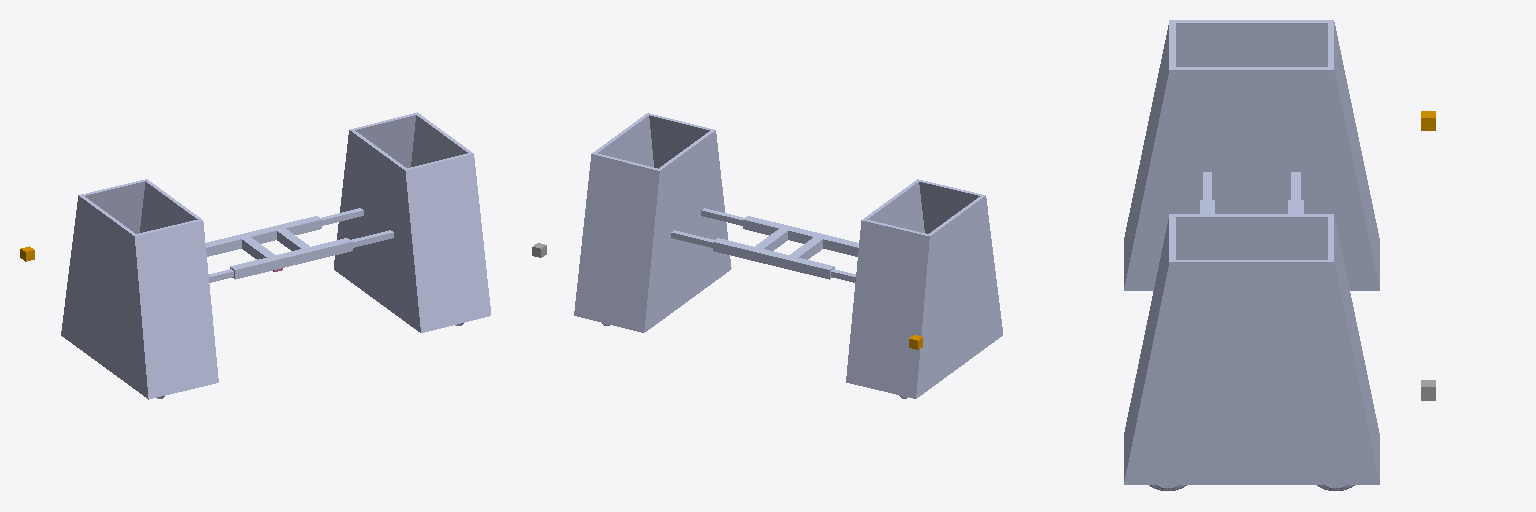
URDF robot description (Aribot):
<?xml version="1.0" encoding="utf-8"?>
<!-- This URDF was automatically created by SolidWorks to URDF Exporter! Originally created by [author] ([email redacted]) 
     Commit Version: 1.6.0-4-g7f85cfe  Build Version: 1.6.7995.38578
     For more information, please see http://wiki.ros.org/sw_urdf_exporter -->
<robot
  name="Aribot">


  <link name="base_link"/>

  <joint name="base_link_to_frame" type="fixed">
    <origin
      xyz="0 0 0.5"
      rpy="0 0 0" />
    <parent link="base_link"/>
    <child link="Main_Frame"/>
  </joint>

<!-- %%%%%%%%%%%%%%%%%%%%%%%%%%%%%%%%%%%%%%%%%%%%%%%%%%%%%%%%%%%%%%%%%%%%%%%%%%%%%%%%%%%%%%%%%%%%%%%%%%%%%%%%%%%%%%%%%%%%%%%%%%%%%%%%%%%%%%% -->

  <link
    name="Main_Frame">
    <inertial>
      <origin
        xyz="0.0717709952978995 0.119999999999937 -0.0228889617562367"
        rpy="0 0 0" />
      <mass
        value="77.7230117454762" />
      <inertia
        ixx="8.64031463590464"
        ixy="1.07381683961405E-08"
        ixz="2.28474308907644E-15"
        iyy="5.82929348084091"
        iyz="6.35721833589503E-15"
        izz="6.52219663467182" />
    </inertial>
    <visual>
      <origin
        xyz="0 0 0"
        rpy="0 0 0" />
      <geometry>
        <mesh
          filename="package://aribot/meshes/Main_Frame.STL" />
      </geometry>
      <material
        name="">
        <color
          rgba="0.792156862745098 0.819607843137255 0.933333333333333 1" />
      </material>
    </visual>
    <collision>
      <origin
        xyz="0 0 0"
        rpy="0 0 0" />
      <geometry>
        <mesh
          filename="package://aribot/meshes/Main_Frame.STL" />
      </geometry>
    </collision>
  </link>

<!-- %%%%%%%%%%%%%%%%%%%%%%%%%%%%%%%%%%%%%%%%%%%%%%%%%%%%%%%%%%%%%%%%%%%%%%%%%%%%%%%%%%%%%%%%%%%%%%%%%%%%%%%%%%%%%%%%%%%%%%%%%%%%%%%%%%%%%%% -->

  <link
    name="flw">
    <inertial>
      <origin
        xyz="0 0 0"
        rpy="0 0 0" />
      <mass
        value="2.52907768072339" />
      <inertia
        ixx="0.008507457946081"
        ixy="-2.00936705349142E-08"
        ixz="-2.9288649425361E-06"
        iyy="0.00802972984266959"
        iyz="-8.91391530142956E-10"
        izz="0.00802975031494158" />
    </inertial>
    <visual>
      <origin
        xyz="0.399510532190208 -0.395453747716097 +0.366570227634273"
        rpy="0 0 0" />
      <geometry>
        <mesh
          filename="package://aribot/meshes/FLW.STL" 
          scale="0.5 1 1"/>
      </geometry>
      <material
        name="">
        <color
          rgba="0.792156862745098 0.819607843137255 0.933333333333333 1" />
      </material>
    </visual>
    <collision>
      <origin
        xyz="0.399510532190208 -0.395453747716097 +0.366570227634273"
        rpy="0 0 0" />
      <geometry>
        <mesh
          filename="package://aribot/meshes/FLW.STL" 
          scale="0.5 1 1"/>
      </geometry>
    </collision>
  </link>
  
  <joint
    name="mf_flw"
    type="continuous">
    <origin
      xyz="-0.779021064380416 0.395453747716097 -0.366570227634273"
      rpy="0 0 0" />
    <parent
      link="Main_Frame" />
    <child
      link="flw" />
    <axis
      xyz="1 0 0" />
  </joint>

<!-- %%%%%%%%%%%%%%%%%%%%%%%%%%%%%%%%%%%%%%%%%%%%%%%%%%%%%%%%%%%%%%%%%%%%%%%%%%%%%%%%%%%%%%%%%%%%%%%%%%%%%%%%%%%%%%%%%%%%%%%%%%%%%%%%%%%%%%% -->

  <link
    name="frw">
    <inertial>
      <origin
        xyz="0.461281527406692 0.395453775612817 -0.366570215946312"
        rpy="0 0 0" />
      <mass
        value="2.52907768394816" />
      <inertia
        ixx="0.00850745791271025"
        ixy="2.64738538377897E-08"
        ixz="2.93153879366215E-06"
        iyy="0.00802973012348741"
        iyz="-1.11149048416541E-09"
        izz="0.00802975010088918" />
    </inertial>
    <visual>
      <origin
        xyz="-0.461281527406692 -0.395453775612817 0.366570215946312"
        rpy="0 0 0" />
      <geometry>
        <mesh
          filename="package://aribot/meshes/FRW.STL" 
          scale="0.5 1 1"/>
      </geometry>
      <material
        name="">
        <color
          rgba="0.792156862745098 0.819607843137255 0.933333333333333 1" />
      </material>
    </visual>
    <collision>
      <origin
        xyz="-0.461281527406692 -0.395453775612817 0.366570215946312"
        rpy="0 0 0" />
      <geometry>
        <mesh
          filename="package://aribot/meshes/FRW.STL" 
          scale="0.5 1 1"/>
      </geometry>
    </collision>
  </link>

  <joint
    name="mf_frw"
    type="continuous">
    <origin
      xyz="0.922563054813384 0.395453775612817 -0.366570215946312"
      rpy="0 0 0" />
    <parent
      link="Main_Frame" />
    <child
      link="frw" />
    <axis
      xyz="1 0 0" />
  </joint>
  
<!-- %%%%%%%%%%%%%%%%%%%%%%%%%%%%%%%%%%%%%%%%%%%%%%%%%%%%%%%%%%%%%%%%%%%%%%%%%%%%%%%%%%%%%%%%%%%%%%%%%%%%%%%%%%%%%%%%%%%%%%%%%%%%%%%%%%%%%%% -->

  <link
    name="blw">
    <inertial>
      <origin
        xyz="-0.3895105321288915 -0.155453762879471 -0.366570221746071"
        rpy="0 0 0" />
      <mass
        value="2.52907768381589" />
      <inertia
        ixx="0.00850745792928744"
        ixy="2.35622819098446E-08"
        ixz="-2.93021215744386E-06"
        iyy="0.00802972999331466"
        iyz="1.01701862963767E-09"
        izz="0.00802975021315278" />
    </inertial>
    <visual>
      <origin
        xyz="0.3995105321288915 0.155453762879471 0.366570221746071"
        rpy="0 0 0" />
      <geometry>
        <mesh
          filename="package://aribot/meshes/BLW.STL" 
          scale="0.5 1 1"/>
      </geometry>
      <material
        name="">
        <color
          rgba="0.792156862745098 0.819607843137255 0.933333333333333 1" />
      </material>
    </visual>
    <collision>
      <origin
        xyz="0.3995105321288915 0.155453762879471 0.366570221746071"
        rpy="0 0 0" />
      <geometry>
        <mesh
          filename="package://aribot/meshes/BLW.STL" 
          scale="0.5 1 1"/>
      </geometry>
    </collision>
  </link>

  <joint
    name="mf_blw"
    type="continuous">
    <origin
      xyz="-0.779021064257783 -0.155453762879471 -0.366570221746071"
      rpy="0 0 0" />
    <parent
      link="Main_Frame" />
    <child
      link="blw" />
    <axis
      xyz="1 0 0" />
  </joint>

<!-- %%%%%%%%%%%%%%%%%%%%%%%%%%%%%%%%%%%%%%%%%%%%%%%%%%%%%%%%%%%%%%%%%%%%%%%%%%%%%%%%%%%%%%%%%%%%%%%%%%%%%%%%%%%%%%%%%%%%%%%%%%%%%%%%%%%%%%% -->

  <link
    name="brw">
    <inertial>
      <origin
        xyz="0.4612815272460325 -0.155453872427743 -0.366570135261007"
        rpy="0 0 0" />
      <mass
        value="2.52907767738676" />
      <inertia
        ixx="0.00850745768199721"
        ixy="-4.8606221156604E-08"
        ixz="2.94999144164269E-06"
        iyy="0.008029731566625"
        iyz="1.24369449691537E-09"
        izz="0.00802974881976017" />
    </inertial>
    <visual>
      <origin
        xyz="-0.4612815272460325 0.155453872427743 0.366570135261007"
        rpy="0 0 0" />
      <geometry>
        <mesh
          filename="package://aribot/meshes/BRW.STL" 
          scale="0.5 1 1"/>
      </geometry>
      <material
        name="">
        <color
          rgba="0.792156862745098 0.819607843137255 0.933333333333333 1" />
      </material>
    </visual>
    <collision>
      <origin
        xyz="-0.4612815272460325 0.155453872427743 0.366570135261007"
        rpy="0 0 0" />
      <geometry>
        <mesh
          filename="package://aribot/meshes/BRW.STL" 
          scale="0.5 1 1"/>
      </geometry>
    </collision>
  </link>

  <joint
    name="mf_brw"
    type="continuous">
    <origin
      xyz="0.922563054492065 -0.155453872427743 -0.366570135261007"
      rpy="0 0 0" />
    <parent
      link="Main_Frame" />
    <child
      link="brw" />
    <axis
      xyz="1 0 0" />
  </joint>


<!-- %%%%%%%%%%%%%%%%%%%%%%%%%%%%%%%%%%%%%%%%%%%%%%%%%%%%%%%%%%%%%%%%%%%%%%%%%%%%%%%%%%%%%%%%%%%%%%%%%%%%%%%%%%%%%%%%%%%%%%%%%%%%%%%%%%%%%%% -->


<!-- Camera -->
  <link name="camera_link">

    <visual>
      <origin xyz="0 0 0" rpy="0 0 0"/>
      <geometry>
    <box size="0.05 0.05 0.05"/>
      </geometry>
      <material name="red"/>
    </visual>

    <inertial>
      <mass value="1e-5" />
      <origin xyz="0 0 0" rpy="0 0 0"/>
      <inertia ixx="1e-6" ixy="0" ixz="0" iyy="1e-6" iyz="0" izz="1e-6" />
    </inertial>
  </link>

  <joint name="camera_joint" type="fixed">
    <axis xyz="0 1 0" />
    <origin xyz="0 0 0" rpy="0 1.57079632679 0"/>
    <parent link="Main_Frame"/>
    <child link="camera_link"/>
  </joint>


<!-- %%%%%%%%%%%%%%%%%%%%%%%%%%%%%%%%%%%%%%%%%%%%%%%%%%%%%%%%%%%%%%%%%%%%%%%%%%%%%%%%%%%%%%%%%%%%%%%%%%%%%%%%%%%%%%%%%%%%%%%%%%%%%%%%%%%%%%% -->

<!-- Hokuyo Laser -->
  <link name="hokuyo_link_1">
    <collision>
      <origin xyz="0 0 0" rpy="0 0 0"/>
      <geometry>
    <box size="0.1 0.1 0.1"/>
      </geometry>
    </collision>

    <visual>
      <origin xyz="0 0 0" rpy="0 0 0"/>
      <geometry>
        <box size="0.05 0.05 0.05"/>
      </geometry>
    </visual>

    <inertial>
      <mass value="1e-5" />
      <origin xyz="0 0 0" rpy="0 0 0"/>
      <inertia ixx="1e-6" ixy="0" ixz="0" iyy="1e-6" iyz="0" izz="1e-6" />
    </inertial>
  </link>

  <joint name="hokuyo_joint_1" type="fixed">
    <axis xyz="0 1 0" />
    <origin xyz="1.12 0.7 0" rpy="0 1.570796 1.5707963267948966"/>
    <parent link="Main_Frame"/>
    <child link="hokuyo_link_1"/>
  </joint>


<!-- Hokuyo Laser -->
  <link name="hokuyo_link_2">
    <collision>
      <origin xyz="0 0 0" rpy="0 0 0"/>
      <geometry>
    <box size="0.1 0.1 0.1"/>
      </geometry>
    </collision>

    <visual>
      <origin xyz="0 0 0" rpy="0 0 0"/>
      <geometry>
        <box size="0.05 0.05 0.05"/>
      </geometry>
    </visual>

    <inertial>
      <mass value="1e-5" />
      <origin xyz="0 0 0" rpy="0 0 0"/>
      <inertia ixx="1e-6" ixy="0" ixz="0" iyy="1e-6" iyz="0" izz="1e-6" />
    </inertial>
  </link>

  <joint name="hokuyo_joint_2" type="fixed">
    <axis xyz="0 1 0" />
    <origin xyz="-0.97 0.7 0" rpy="0 1.570796 1.5707963267948966"/>
    <parent link="Main_Frame"/>
    <child link="hokuyo_link_2"/>
  </joint>
<!-- %%%%%%%%%%%%%%%%%%%%%%%%%%%%%%%%%%%%%%%%%%%%%%%%%%%%%%%%%%%%%%%%%%%%%%%%%%%%%%%%%%%%%%%%%%%%%%%%%%%%%%%%%%%%%%%%%%%%%%%%%%%%%%%%%%%%%%% -->



  <!-- #########################  Transmission element  ###########################-->



  <transmission name="tran1_1">
        <type>transmission_interface/SimpleTransmission</type>
        <joint name="mf_frw">
          <hardwareInterface>hardware_interface/VelocityJointInterface</hardwareInterface>
        </joint>
        <actuator name="motor1">
          <hardwareInterface>hardware_interface/VelocityJointInterface</hardwareInterface>
          <mechanicalReduction>1</mechanicalReduction>
        </actuator>
      </transmission>

  <transmission name="tran1_2">
        <type>transmission_interface/SimpleTransmission</type>
        <joint name="mf_flw">
          <hardwareInterface>hardware_interface/VelocityJointInterface</hardwareInterface>
        </joint>
        <actuator name="motor2">
          <hardwareInterface>hardware_interface/VelocityJointInterface</hardwareInterface>
          <mechanicalReduction>1</mechanicalReduction>
        </actuator>
      </transmission>

  <transmission name="tran1_3">
        <type>transmission_interface/SimpleTransmission</type>
        <joint name="mf_brw">
          <hardwareInterface>hardware_interface/VelocityJointInterface</hardwareInterface>
        </joint>
        <actuator name="motor3">
          <hardwareInterface>hardware_interface/VelocityJointInterface</hardwareInterface>
          <mechanicalReduction>1</mechanicalReduction>
        </actuator>
      </transmission>

  <transmission name="tran1_4">
        <type>transmission_interface/SimpleTransmission</type>
        <joint name="mf_blw">
          <hardwareInterface>hardware_interface/VelocityJointInterface</hardwareInterface>
        </joint>
        <actuator name="motor4">
          <hardwareInterface>hardware_interface/VelocityJointInterface</hardwareInterface>
          <mechanicalReduction>1</mechanicalReduction>
        </actuator>
      </transmission>

<!-- #########################  Gazebo element  ###########################-->

  <gazebo>
  <plugin name="gazebo_ros_control" filename="libgazebo_ros_control.so">
    <robotNamespace>/Aribot</robotNamespace>
  </plugin>
</gazebo>


<gazebo reference="camera_link">
    <sensor type="camera" name="camera1">
      <update_rate>30.0</update_rate>
      <camera name="head">
        <horizontal_fov>1.3962634</horizontal_fov>
        <image>
          <width>800</width>
          <height>800</height>
          <format>R8G8B8</format>
        </image>
        <clip>
          <near>0.02</near>
          <far>300</far>
        </clip>
        <noise>
          <type>gaussian</type>
          <mean>0.0</mean>
          <stddev>0.007</stddev>
        </noise>
      </camera>
      <plugin name="camera_controller" filename="libgazebo_ros_camera.so">
        <alwaysOn>true</alwaysOn>
        <updateRate>10.0</updateRate>
        <cameraName>/Aribot/camera1</cameraName>
        <imageTopicName>image_raw</imageTopicName>
        <cameraInfoTopicName>camera_info</cameraInfoTopicName>
        <frameName>camera_link</frameName>
        <hackBaseline>0.07</hackBaseline>
        <distortionK1>0.0</distortionK1>
        <distortionK2>0.0</distortionK2>
        <distortionK3>0.0</distortionK3>
        <distortionT1>0.0</distortionT1>
        <distortionT2>0.0</distortionT2>
      </plugin>
    </sensor>
  </gazebo>


  <!-- hokuyo -->
  <gazebo reference="hokuyo_link_1">
    <sensor type="ray" name="head_hokuyo_sensor1">
      <pose>0 0 0 0 0 0</pose>
      <visualize>true</visualize>
      <update_rate>30</update_rate>
      <ray>
        <scan>
          <horizontal>
            <samples>300</samples>
            <resolution>1</resolution>
            <min_angle>0</min_angle>
            <max_angle>1.35</max_angle>
          </horizontal>
        </scan>
        <range>
          <min>0.1</min>
          <max>50.0</max>
          <resolution>0.001</resolution>
        </range>
        <noise>
          <type>gaussian</type>
          <!-- Noise parameters based on published spec for Hokuyo laser
               achieving "+-30mm" accuracy at range < 10m.  A mean of 0.0m and
               stddev of 0.01m will put 99.7% of samples within 0.03m of the true
               reading. -->
          <mean>0.0</mean>
          <stddev>0.005</stddev>
        </noise>
      </ray>
      <plugin name="gazebo_ros_head_hokuyo_controller" filename="libgazebo_ros_laser.so">
        <topicName>/Aribot/laser/scan</topicName>
        <frameName>hokuyo_link_1</frameName>
      </plugin>
    </sensor>
  </gazebo>


  <!-- hokuyo -->
  <gazebo reference="hokuyo_link_2">
    <sensor type="ray" name="head_hokuyo_sensor2">
      <pose>0 0 0 0 0 0</pose>
      <visualize>true</visualize>
      <update_rate>30</update_rate>
      <ray>
        <scan>
          <horizontal>
            <samples>300</samples>
            <resolution>1</resolution>
            <min_angle>-1.35</min_angle>
            <max_angle>0</max_angle>
          </horizontal>
        </scan>
        <range>
          <min>0.1</min>
          <max>50.0</max>
          <resolution>0.001</resolution>
        </range>
        <noise>
          <type>gaussian</type>
          <!-- Noise parameters based on published spec for Hokuyo laser
               achieving "+-30mm" accuracy at range < 10m.  A mean of 0.0m and
               stddev of 0.01m will put 99.7% of samples within 0.03m of the true
               reading. -->
          <mean>0.0</mean>
          <stddev>0.005</stddev>
        </noise>
      </ray>
      <plugin name="gazebo_ros_head_hokuyo_controller" filename="libgazebo_ros_laser.so">
        <topicName>/Aribot/laser/scan</topicName>
        <frameName>hokuyo_link_2</frameName>
      </plugin>
    </sensor>
  </gazebo>

</robot>

--- Facts derived from the render (not from the file) ---
The picture shows the robot from 3 angles, left to right: view 1: azimuth 30°, elevation 25°; view 2: azimuth 150°, elevation 25°; view 3: azimuth 270°, elevation 25°; orthographic projection.
Model Aribot with 9 links and 8 joints (4 continuous, 4 fixed), rooted at base_link, posed every joint at zero.
Links seen in each view (by area): view 1: Main_Frame; view 2: Main_Frame; view 3: Main_Frame.
Boxes of the visible links, x1,y1,x2,y2 form: Main_Frame: (61,112,490,399); Main_Frame: (574,113,1002,398); Main_Frame: (1124,20,1379,484).
Size in the robot's own frame: 2.14 by 1.03 by 0.8792 metres.
Meshes: 5 distinct files referenced, 5 mesh visuals loaded (5 binary STL).
